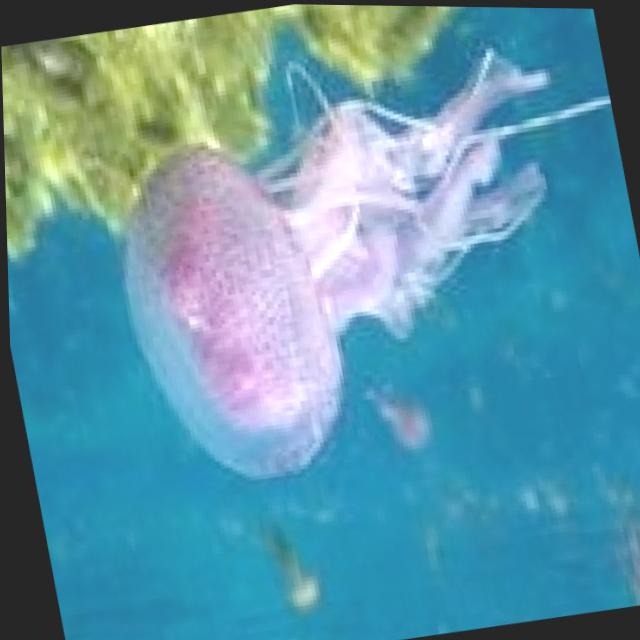Jellyfish: (84, 17, 640, 506)
